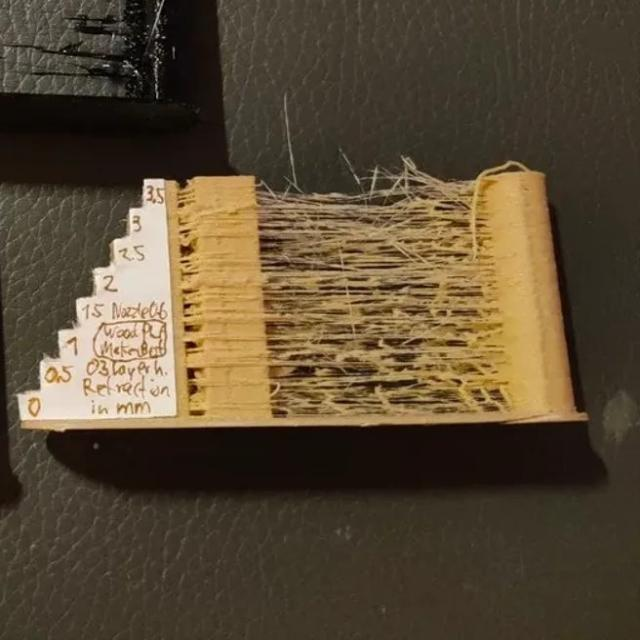stringing: (251, 180, 503, 414)
